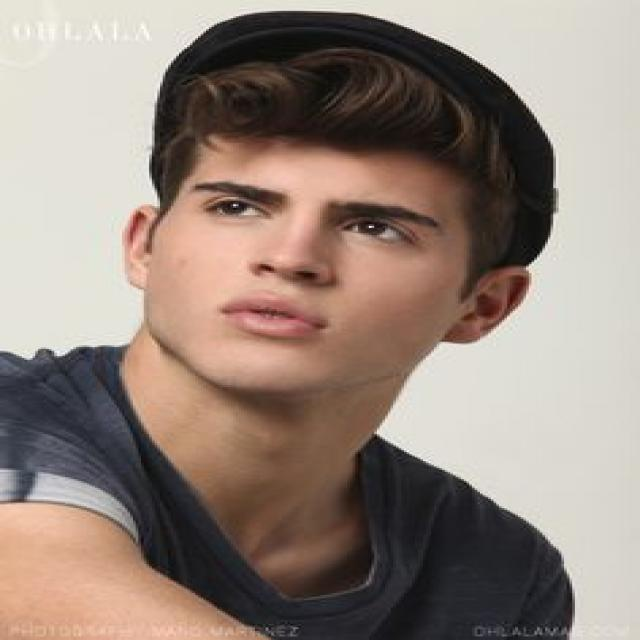earlobe: (446, 319, 476, 346), (125, 260, 149, 290)
eye: (339, 218, 414, 243), (206, 197, 272, 221)
nose: (244, 264, 324, 297)
wholeear: (447, 267, 532, 345), (122, 204, 160, 290)
